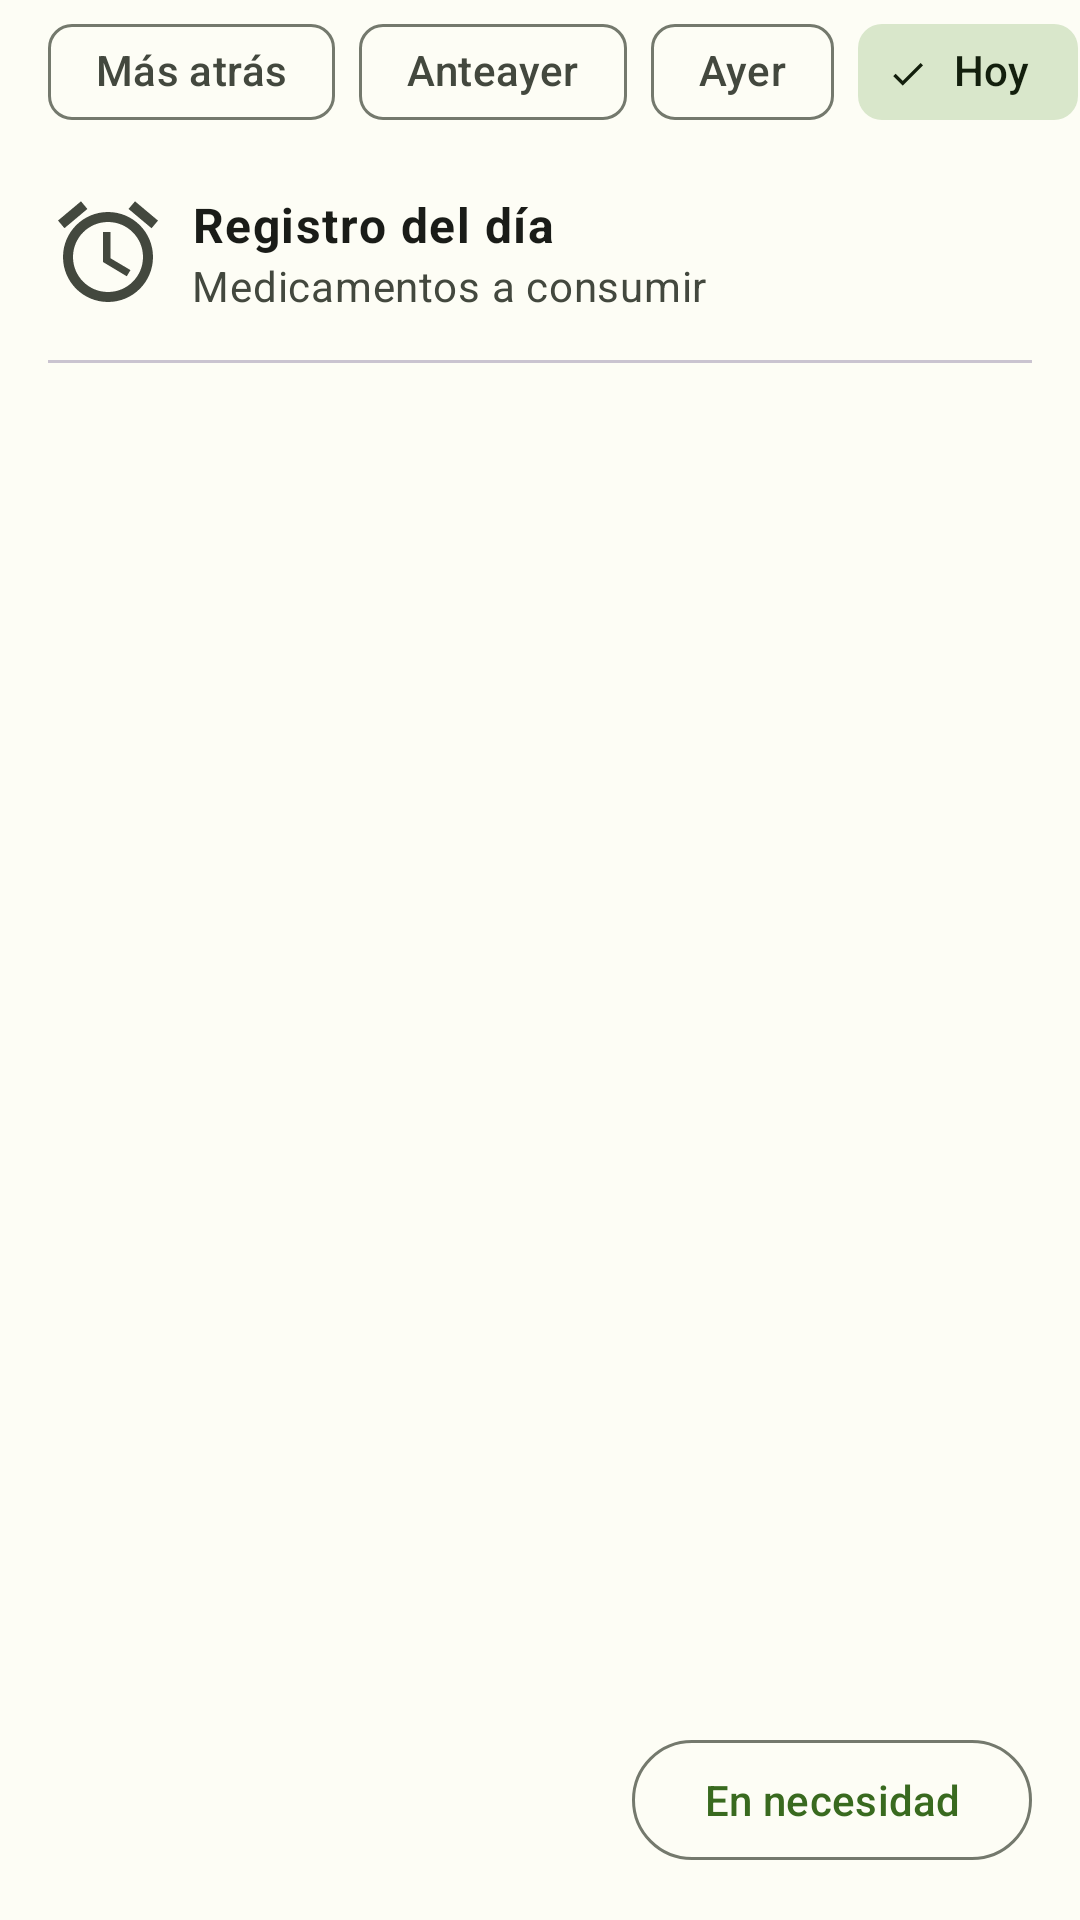

Icons on this 1080*1920 Android screen, each with the point to tap as point (x, y):
alarm: point (108, 251)
